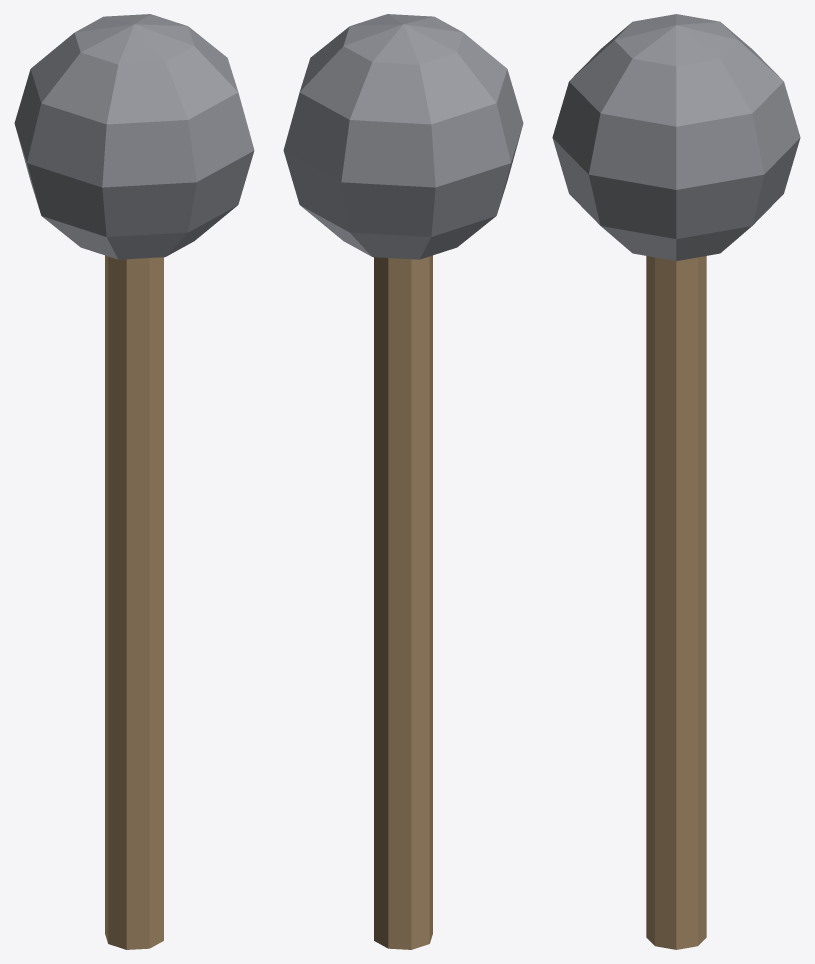
The model's file is sm_mace.glb.
The picture shows the model from 3 angles, left to right: view 1: azimuth 30°, elevation 25°; view 2: azimuth 150°, elevation 25°; view 3: azimuth 270°, elevation 25°; orthographic projection.
Visible parts, largest first — view 1: sm_mace; view 2: sm_mace; view 3: sm_mace.
Part boxes in pixels (box(x1,y1,x2,y2)): sm_mace: box(14, 14, 254, 949); sm_mace: box(283, 14, 523, 949); sm_mace: box(552, 14, 800, 949).
Size of the model in its own units: 0.18 by 0.73 by 0.18.
